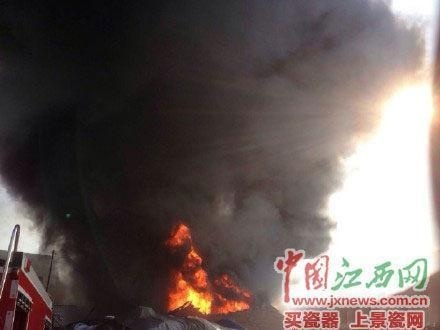fire: (164, 223, 250, 315)
